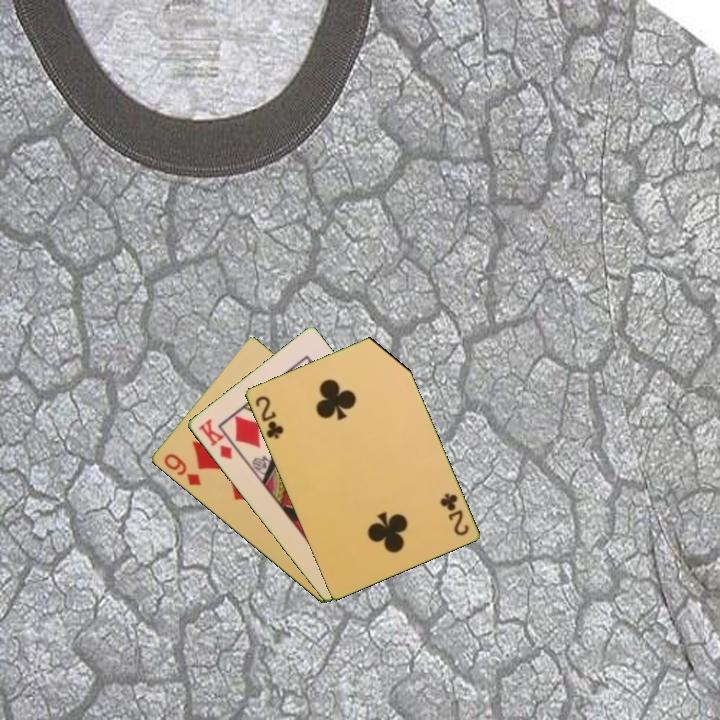2c: (251, 392, 286, 442), (436, 489, 471, 539)
9d: (160, 450, 204, 489)
Kd: (194, 415, 235, 462)
